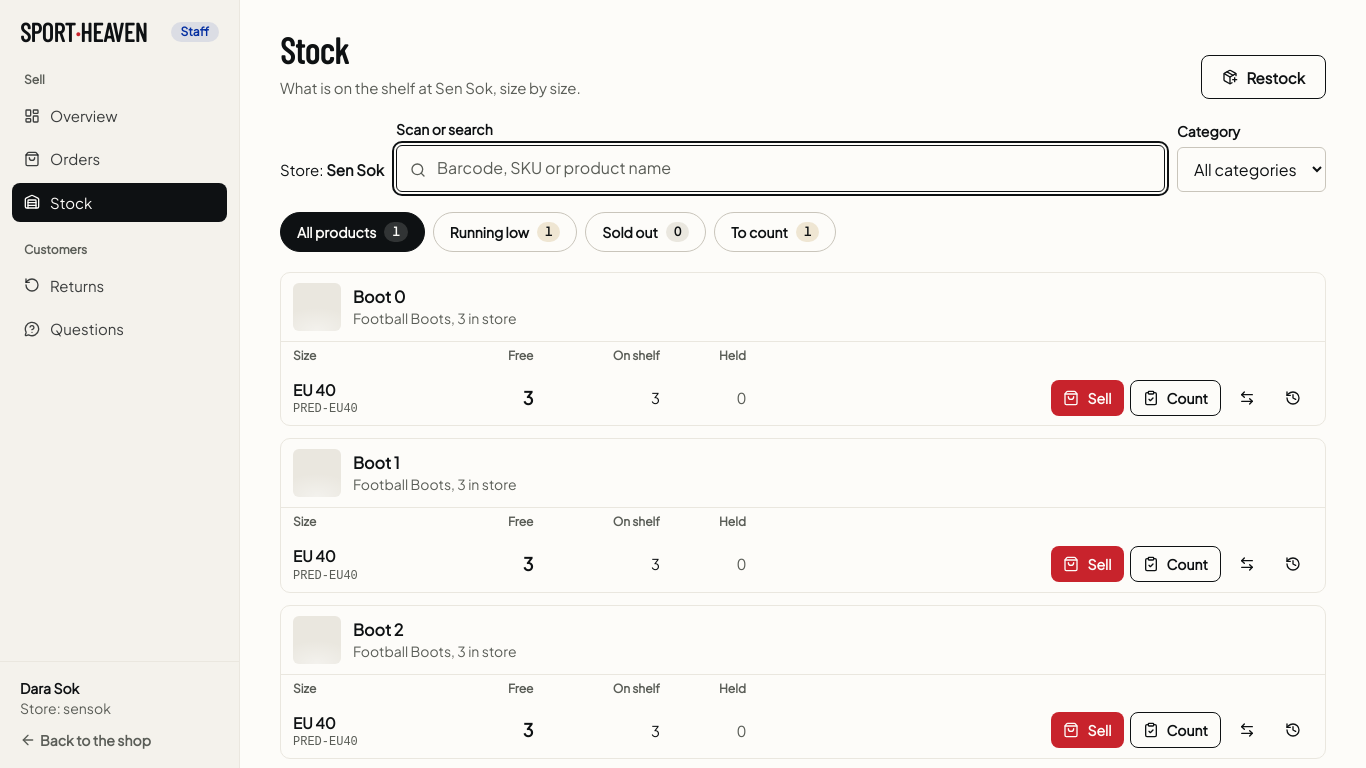
Test: stock screen › ticks every size in the list across all pages, keeping the filters
Expected: the element "Boot 0" is shown, [280,272,1326,426]
Step 1. Click the button "Restock" → [1264, 77], box [1201,55,1326,99]
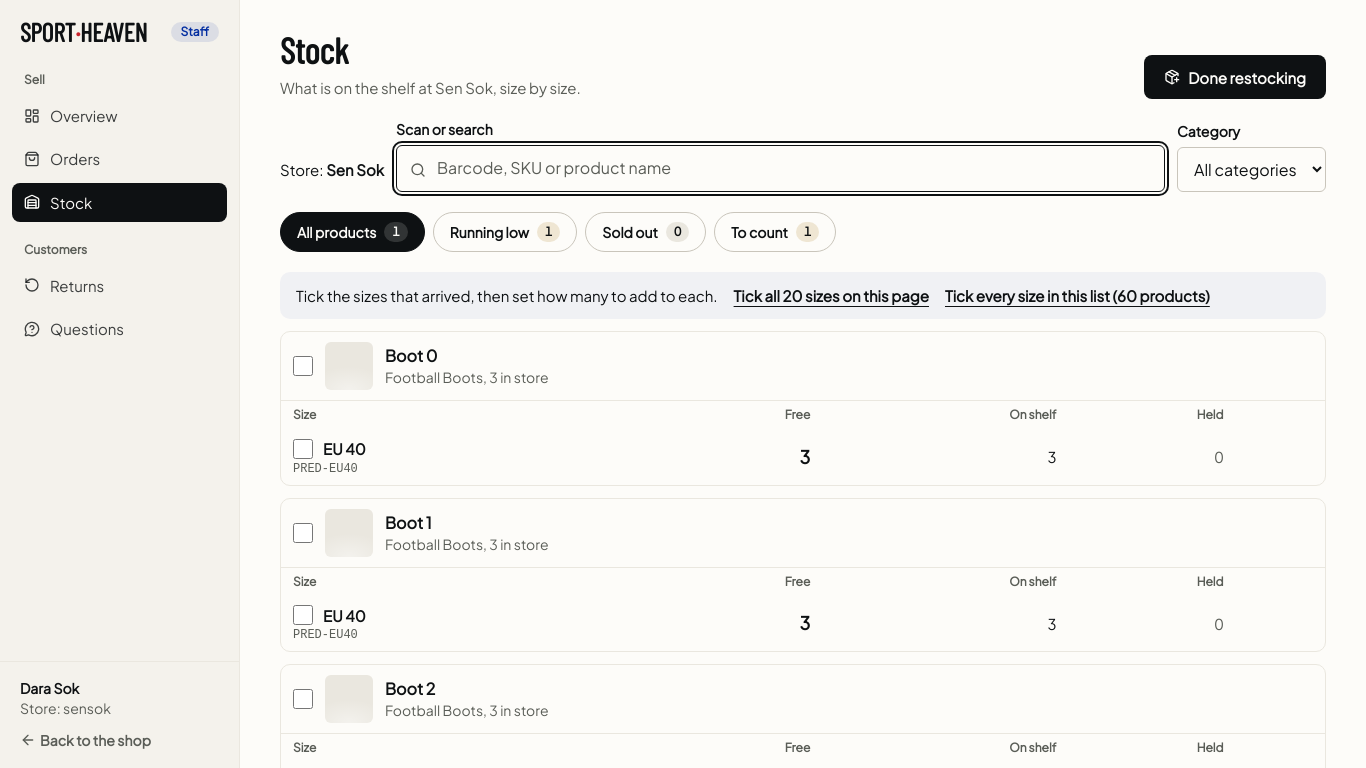
Step 2. Click the button "Tick every size in this list (60 products)" → [1077, 296], box [945,284,1210,307]
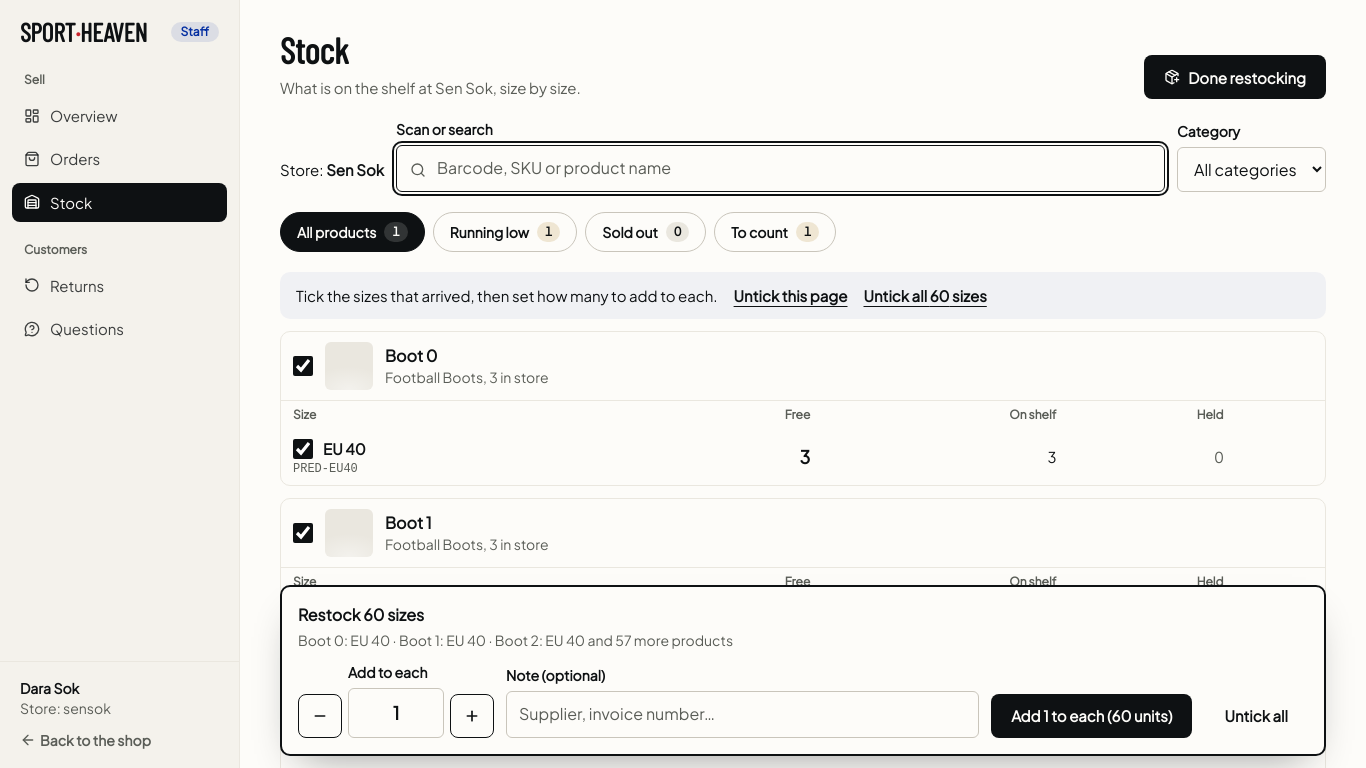
Expected: the heading "Restock 60 sizes" is shown, [298,604,424,625]
Step 3. Click the button "Untick all 60 sizes" → [925, 296], box [864,284,987,307]
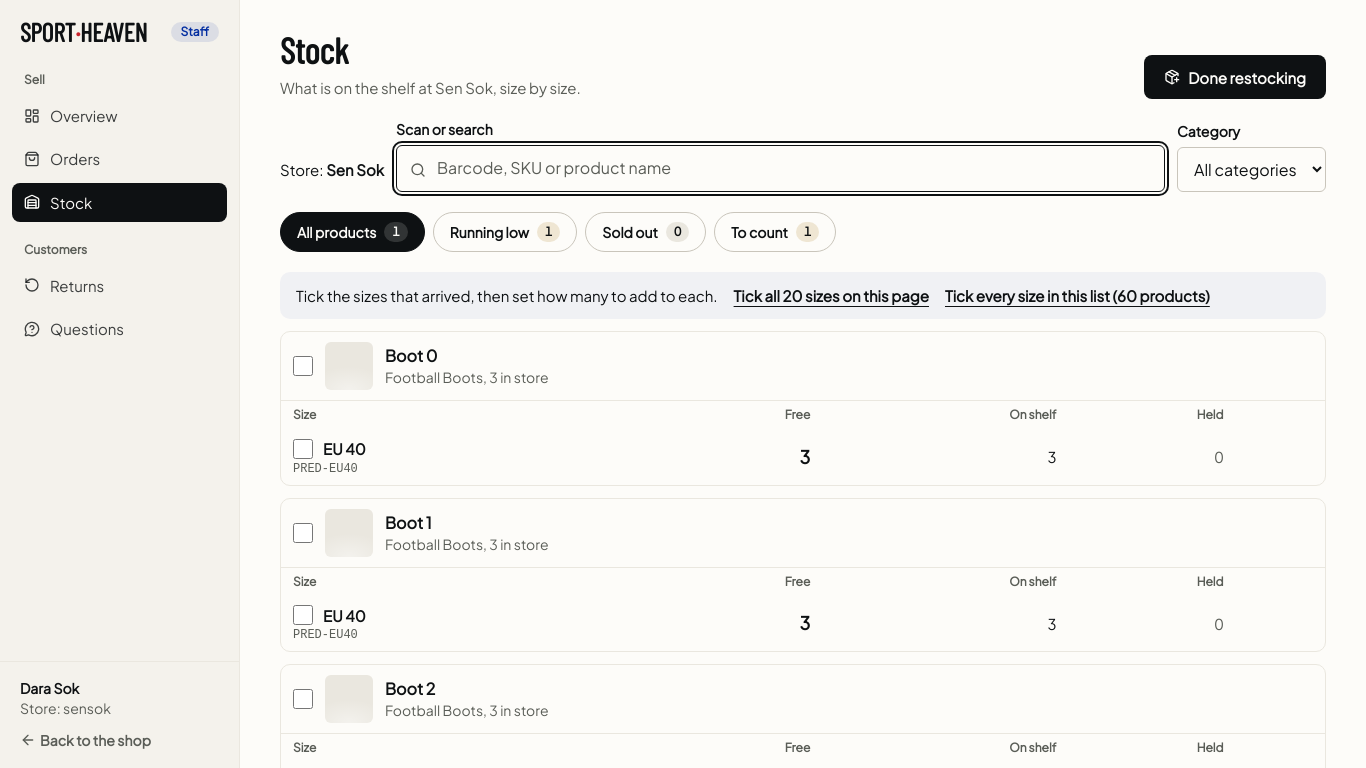
Expected: the heading "Restock 60 sizes" is gone
